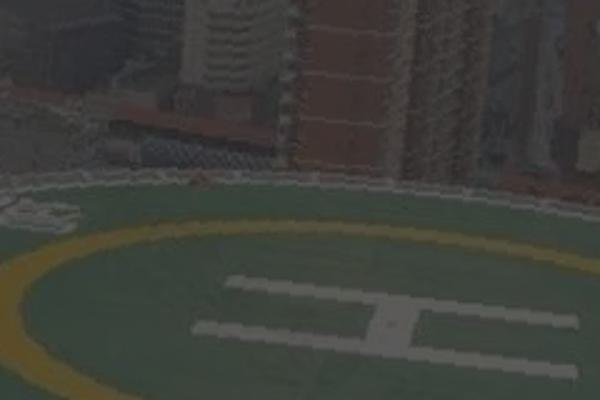Apron: (1, 193, 600, 400)
